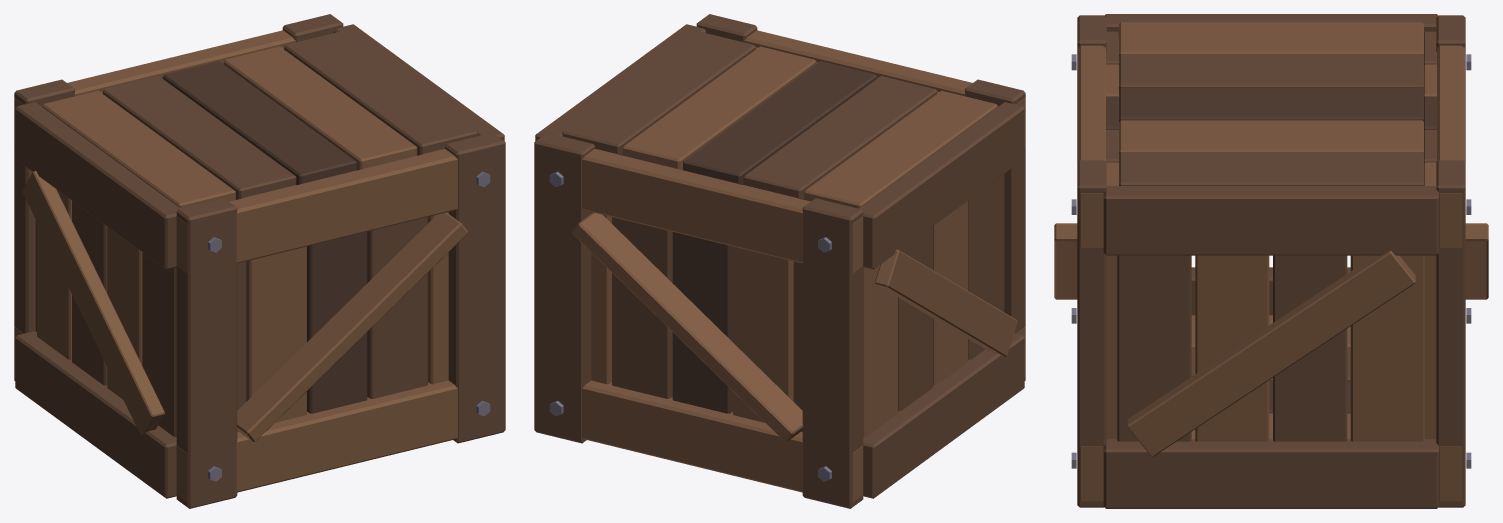
File: wooden_crate.fbx
The picture shows the model from 3 angles, left to right: view 1: azimuth 30°, elevation 25°; view 2: azimuth 150°, elevation 25°; view 3: azimuth 270°, elevation 25°; orthographic projection. The views are drawn at different scales.
Parts seen in each view (by area): view 1: SM_Dungeon_Crate; view 2: SM_Dungeon_Crate; view 3: SM_Dungeon_Crate.
Part boxes in pixels (x1,y1,x2,y2): SM_Dungeon_Crate: [14, 14, 505, 508]; SM_Dungeon_Crate: [534, 14, 1025, 508]; SM_Dungeon_Crate: [1054, 14, 1488, 508].
Size of the model in its own units: 0.871 by 0.7 by 0.8545.
